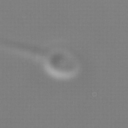normal: (1, 40, 45, 67)
